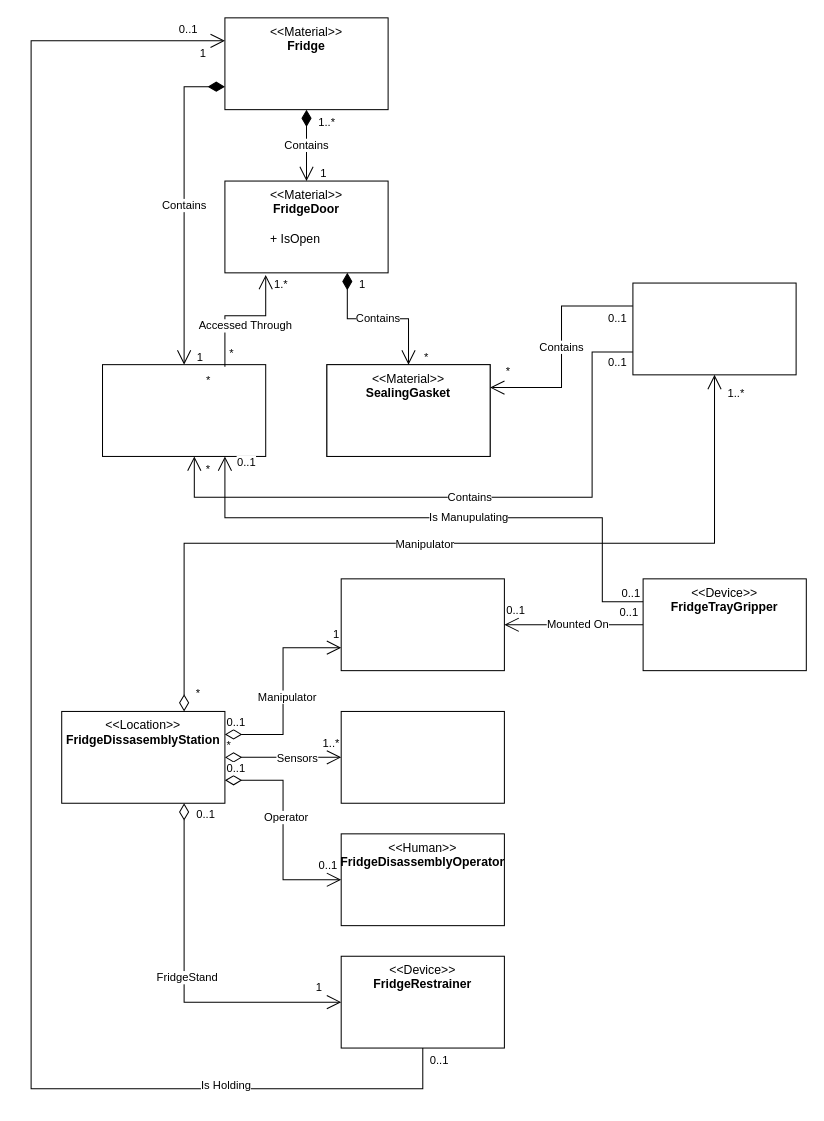
This 824x1121 diagram has some shape labels left out. Here are the shapes that lost their labels. From the top down, the box of each, then its label:
(632, 282, 796, 375): <<Asset>> Bin
(101, 364, 266, 456): <<Material>> Tray
(340, 578, 504, 671): <<Device>> CollaborativeRobot
(340, 710, 504, 803): <<Device>> CameraDRGB
